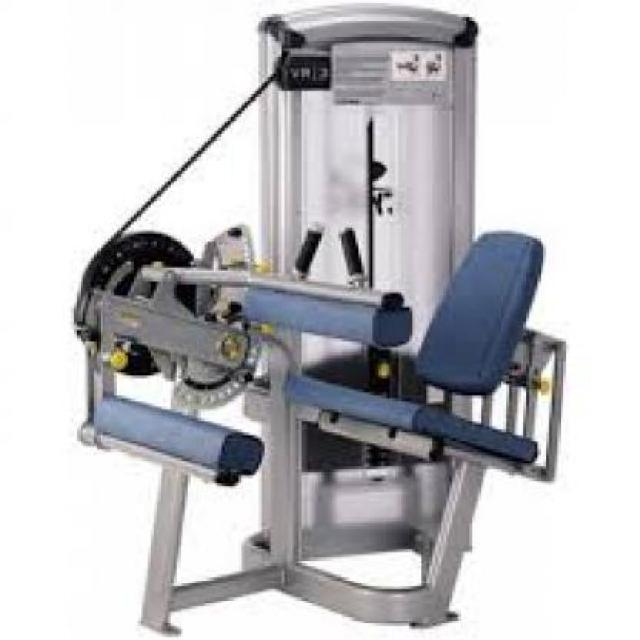leg extension: (58, 0, 590, 640)
